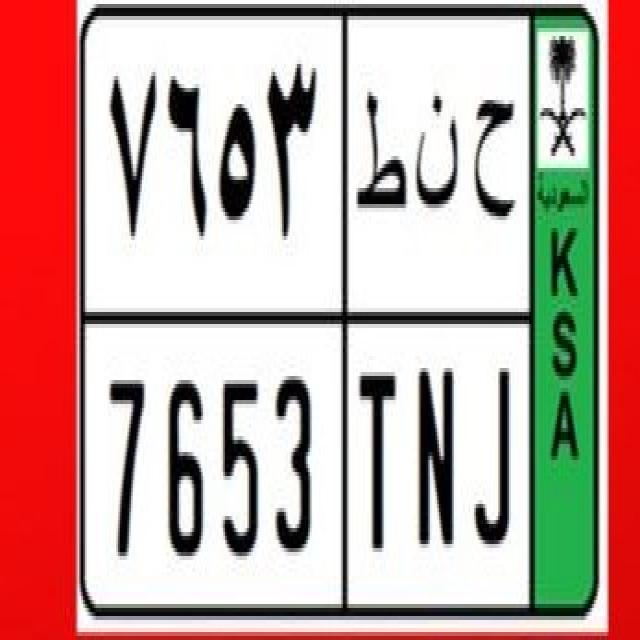license_plate: (100, 356, 522, 569)
